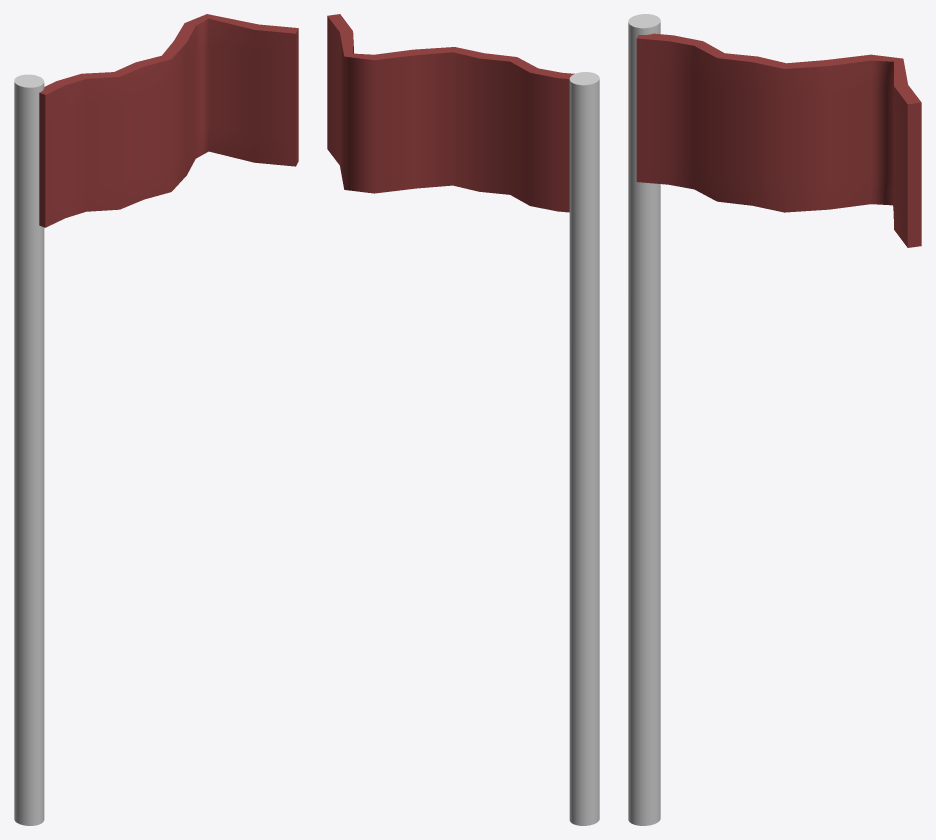
File: flagy.fbx
The picture shows the model from 3 angles, left to right: view 1: azimuth 30°, elevation 25°; view 2: azimuth 150°, elevation 25°; view 3: azimuth 330°, elevation 25°; orthographic projection. The views are drawn at different scales.
Visible parts, largest first — view 1: pPlane1, pCylinder1; view 2: pPlane1, pCylinder1; view 3: pPlane1, pCylinder1.
Boxes of the visible parts, x1,y1,x2,y2 form: pPlane1: (39,14,298,227); pCylinder1: (14,74,44,825); pPlane1: (327,14,574,212); pCylinder1: (569,72,599,825); pPlane1: (636,33,921,247); pCylinder1: (628,14,660,825).
Size of the model in its own units: 2.96 by 7.57 by 0.799.
